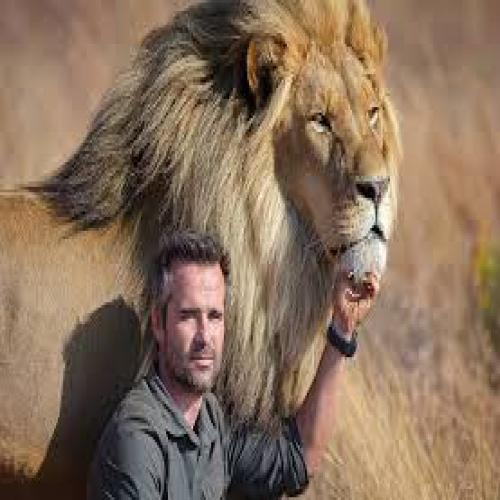lion-endangered: (0, 0, 404, 500)
